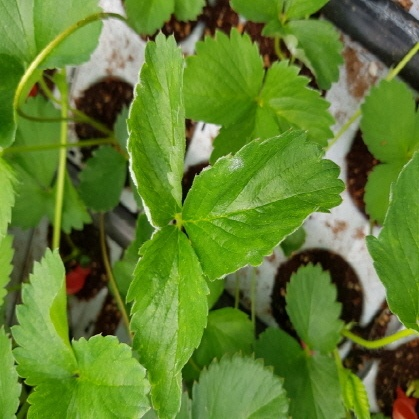Powdery_Leaf: (180, 137, 347, 290), (126, 189, 186, 390)
